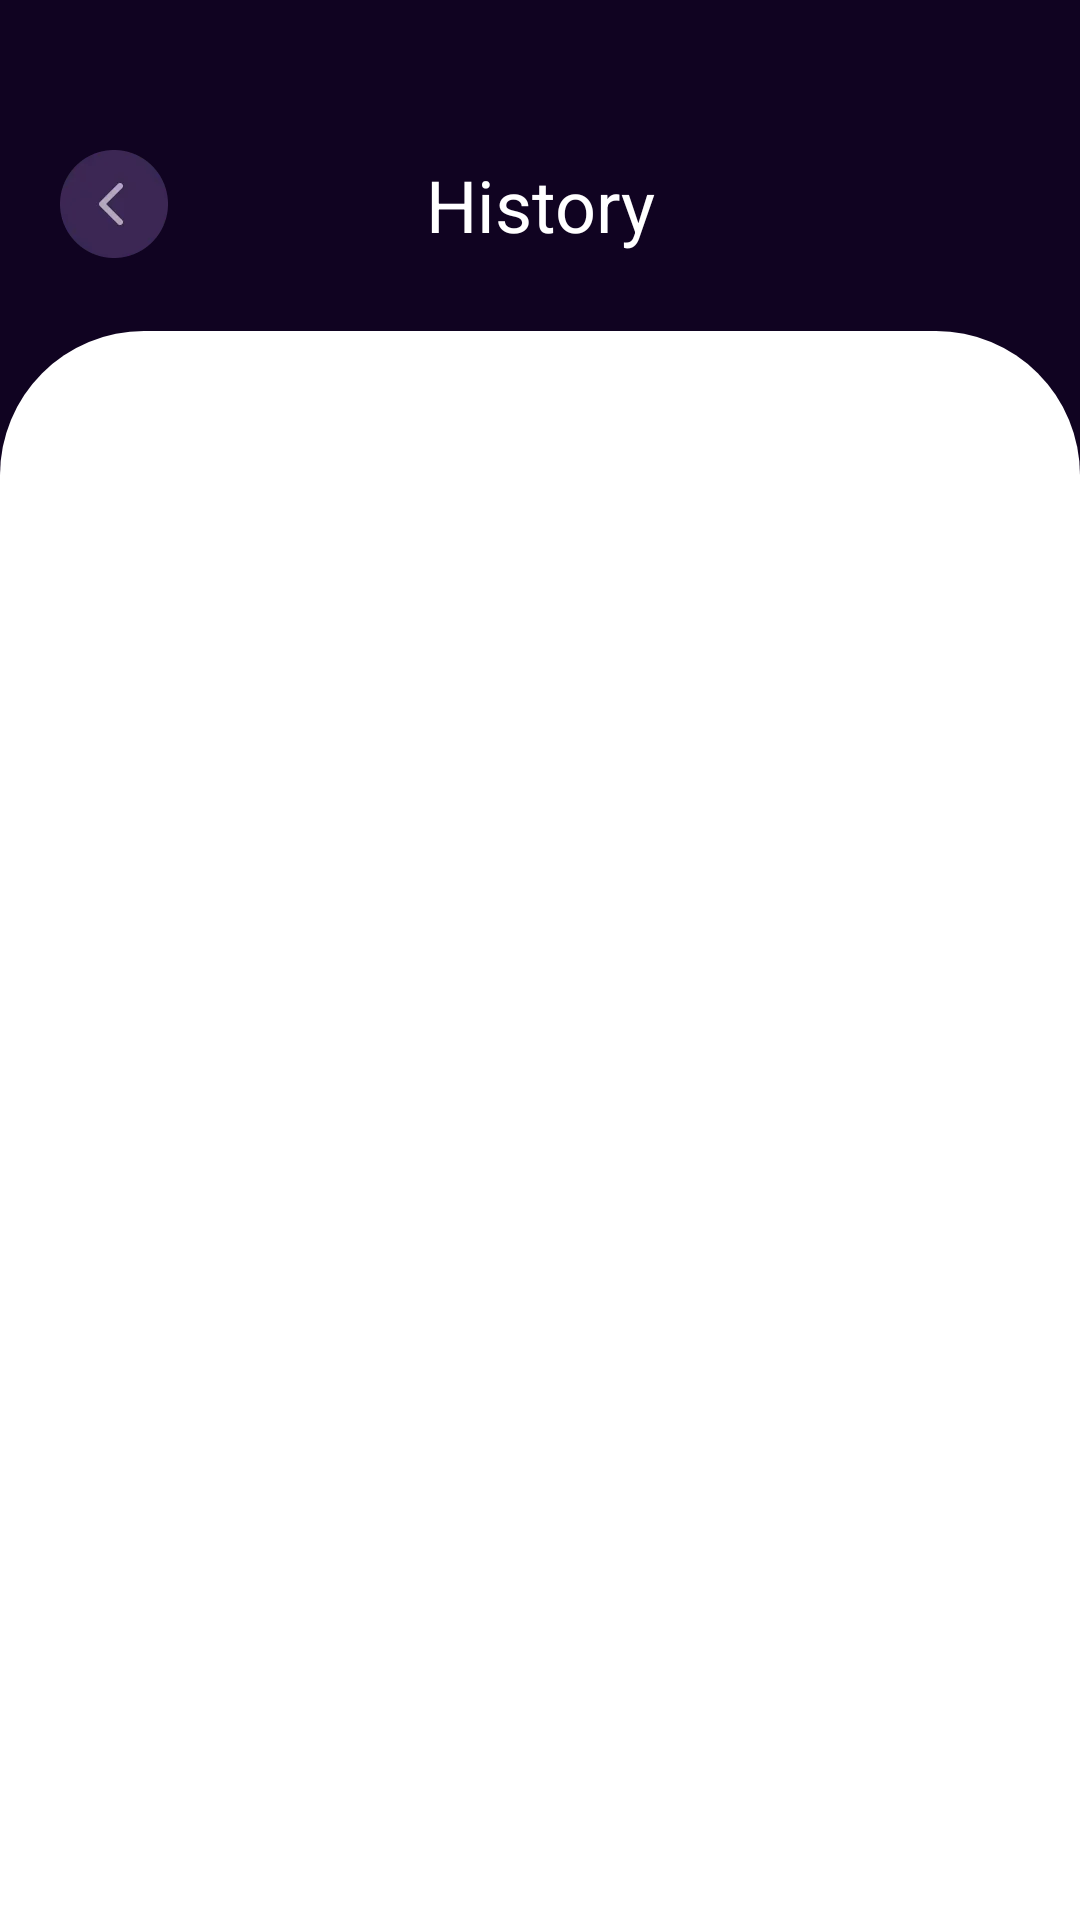

Icon click points for this 1080 x 1920 phone screenshot, format [x,y]:
back: [114,204]
